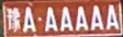A: (23, 7, 36, 32)
